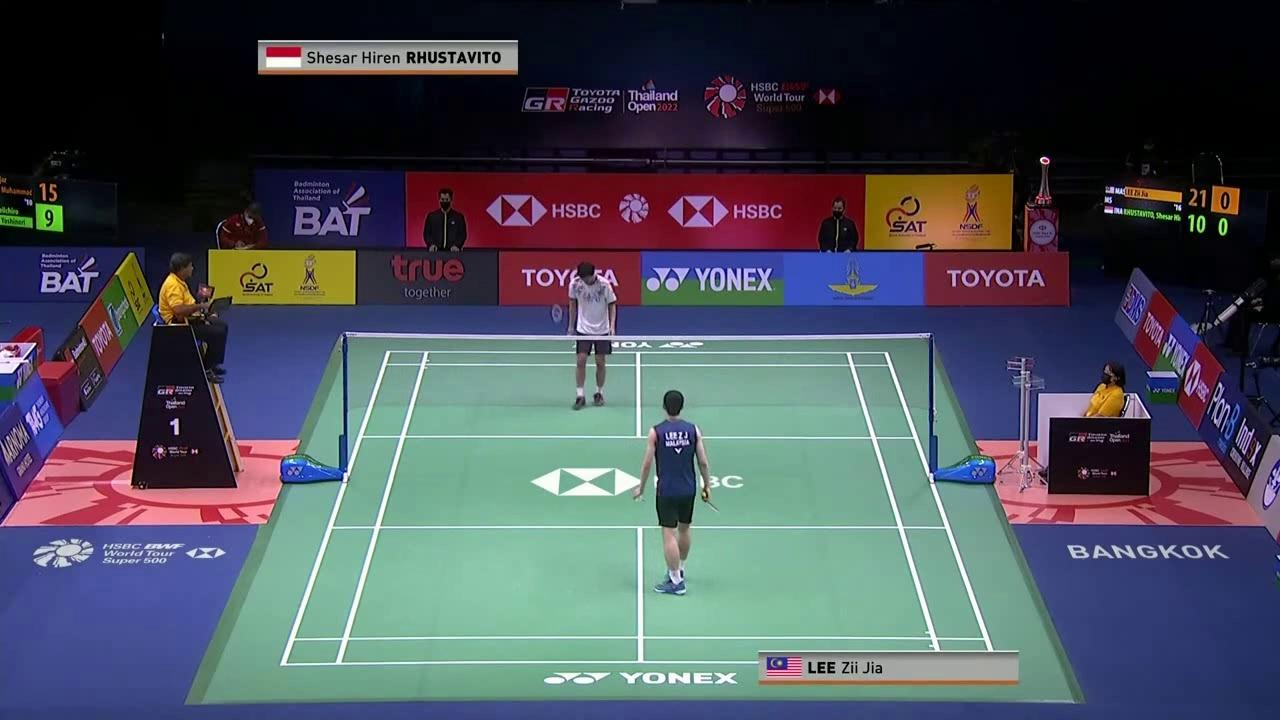racket: (551, 305, 576, 336), (699, 489, 721, 514)
shuttle: (633, 492, 644, 503)
